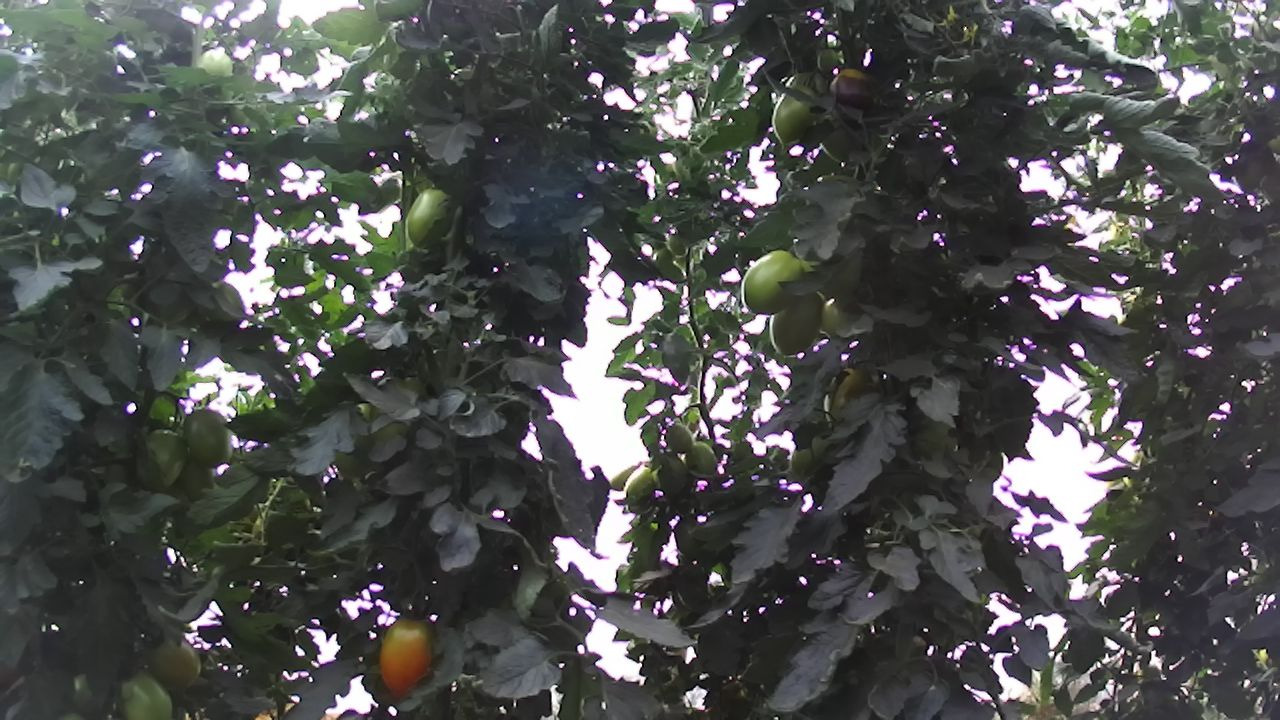tomato: (374, 612, 442, 718), (737, 245, 808, 317), (764, 285, 829, 359), (129, 422, 193, 495), (145, 630, 207, 697), (177, 406, 235, 471), (111, 664, 178, 720), (403, 183, 456, 250), (684, 437, 721, 479), (663, 417, 693, 455)
